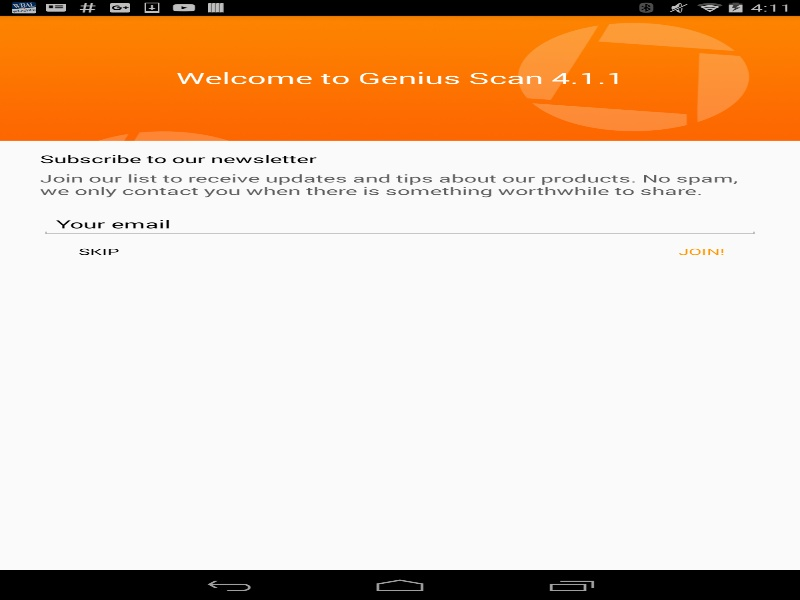Button: (642, 236, 760, 266), (40, 236, 157, 266)
Input: (40, 211, 760, 236)
